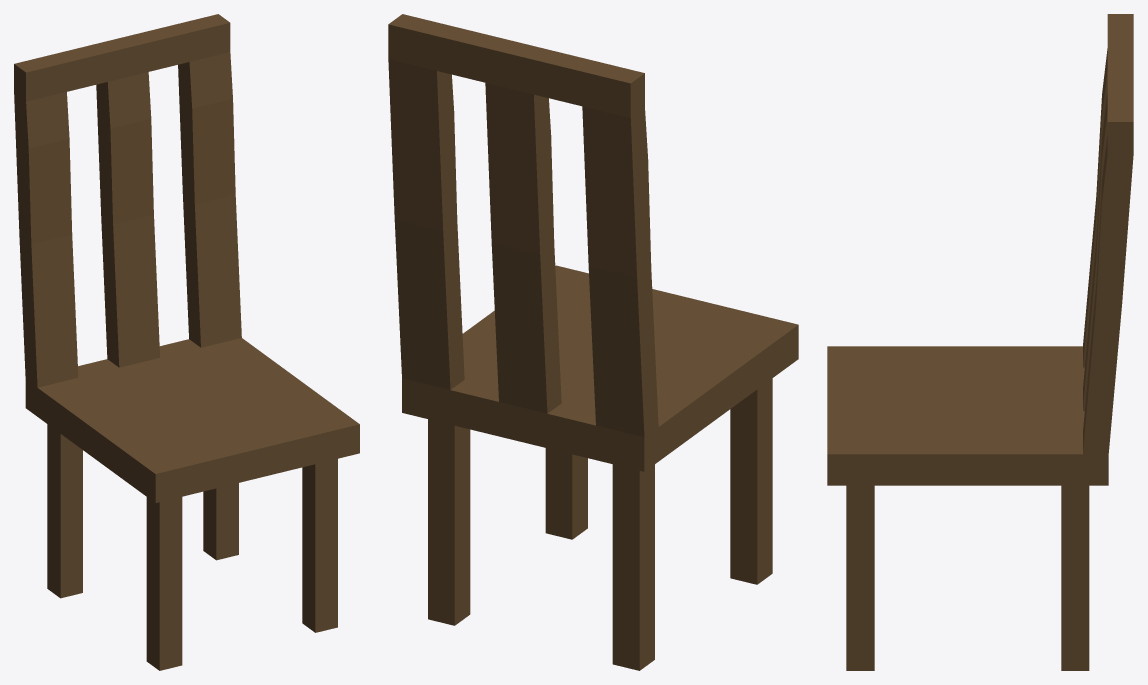
Rendered from chair.fbx.
3 views of the same model, side by side, from view 1: azimuth 30°, elevation 25°; view 2: azimuth 150°, elevation 25°; view 3: azimuth 270°, elevation 25° (orthographic). The views are drawn at different scales.
Parts seen in each view (by area): view 1: Plane.005; view 2: Plane.005; view 3: Plane.005.
Boxes of the visible parts, bbox=[...] form: Plane.005: bbox=[14, 14, 359, 670]; Plane.005: bbox=[388, 14, 798, 670]; Plane.005: bbox=[827, 14, 1133, 670].
Bounding box in the file's own units: 176 × 422 × 211.
